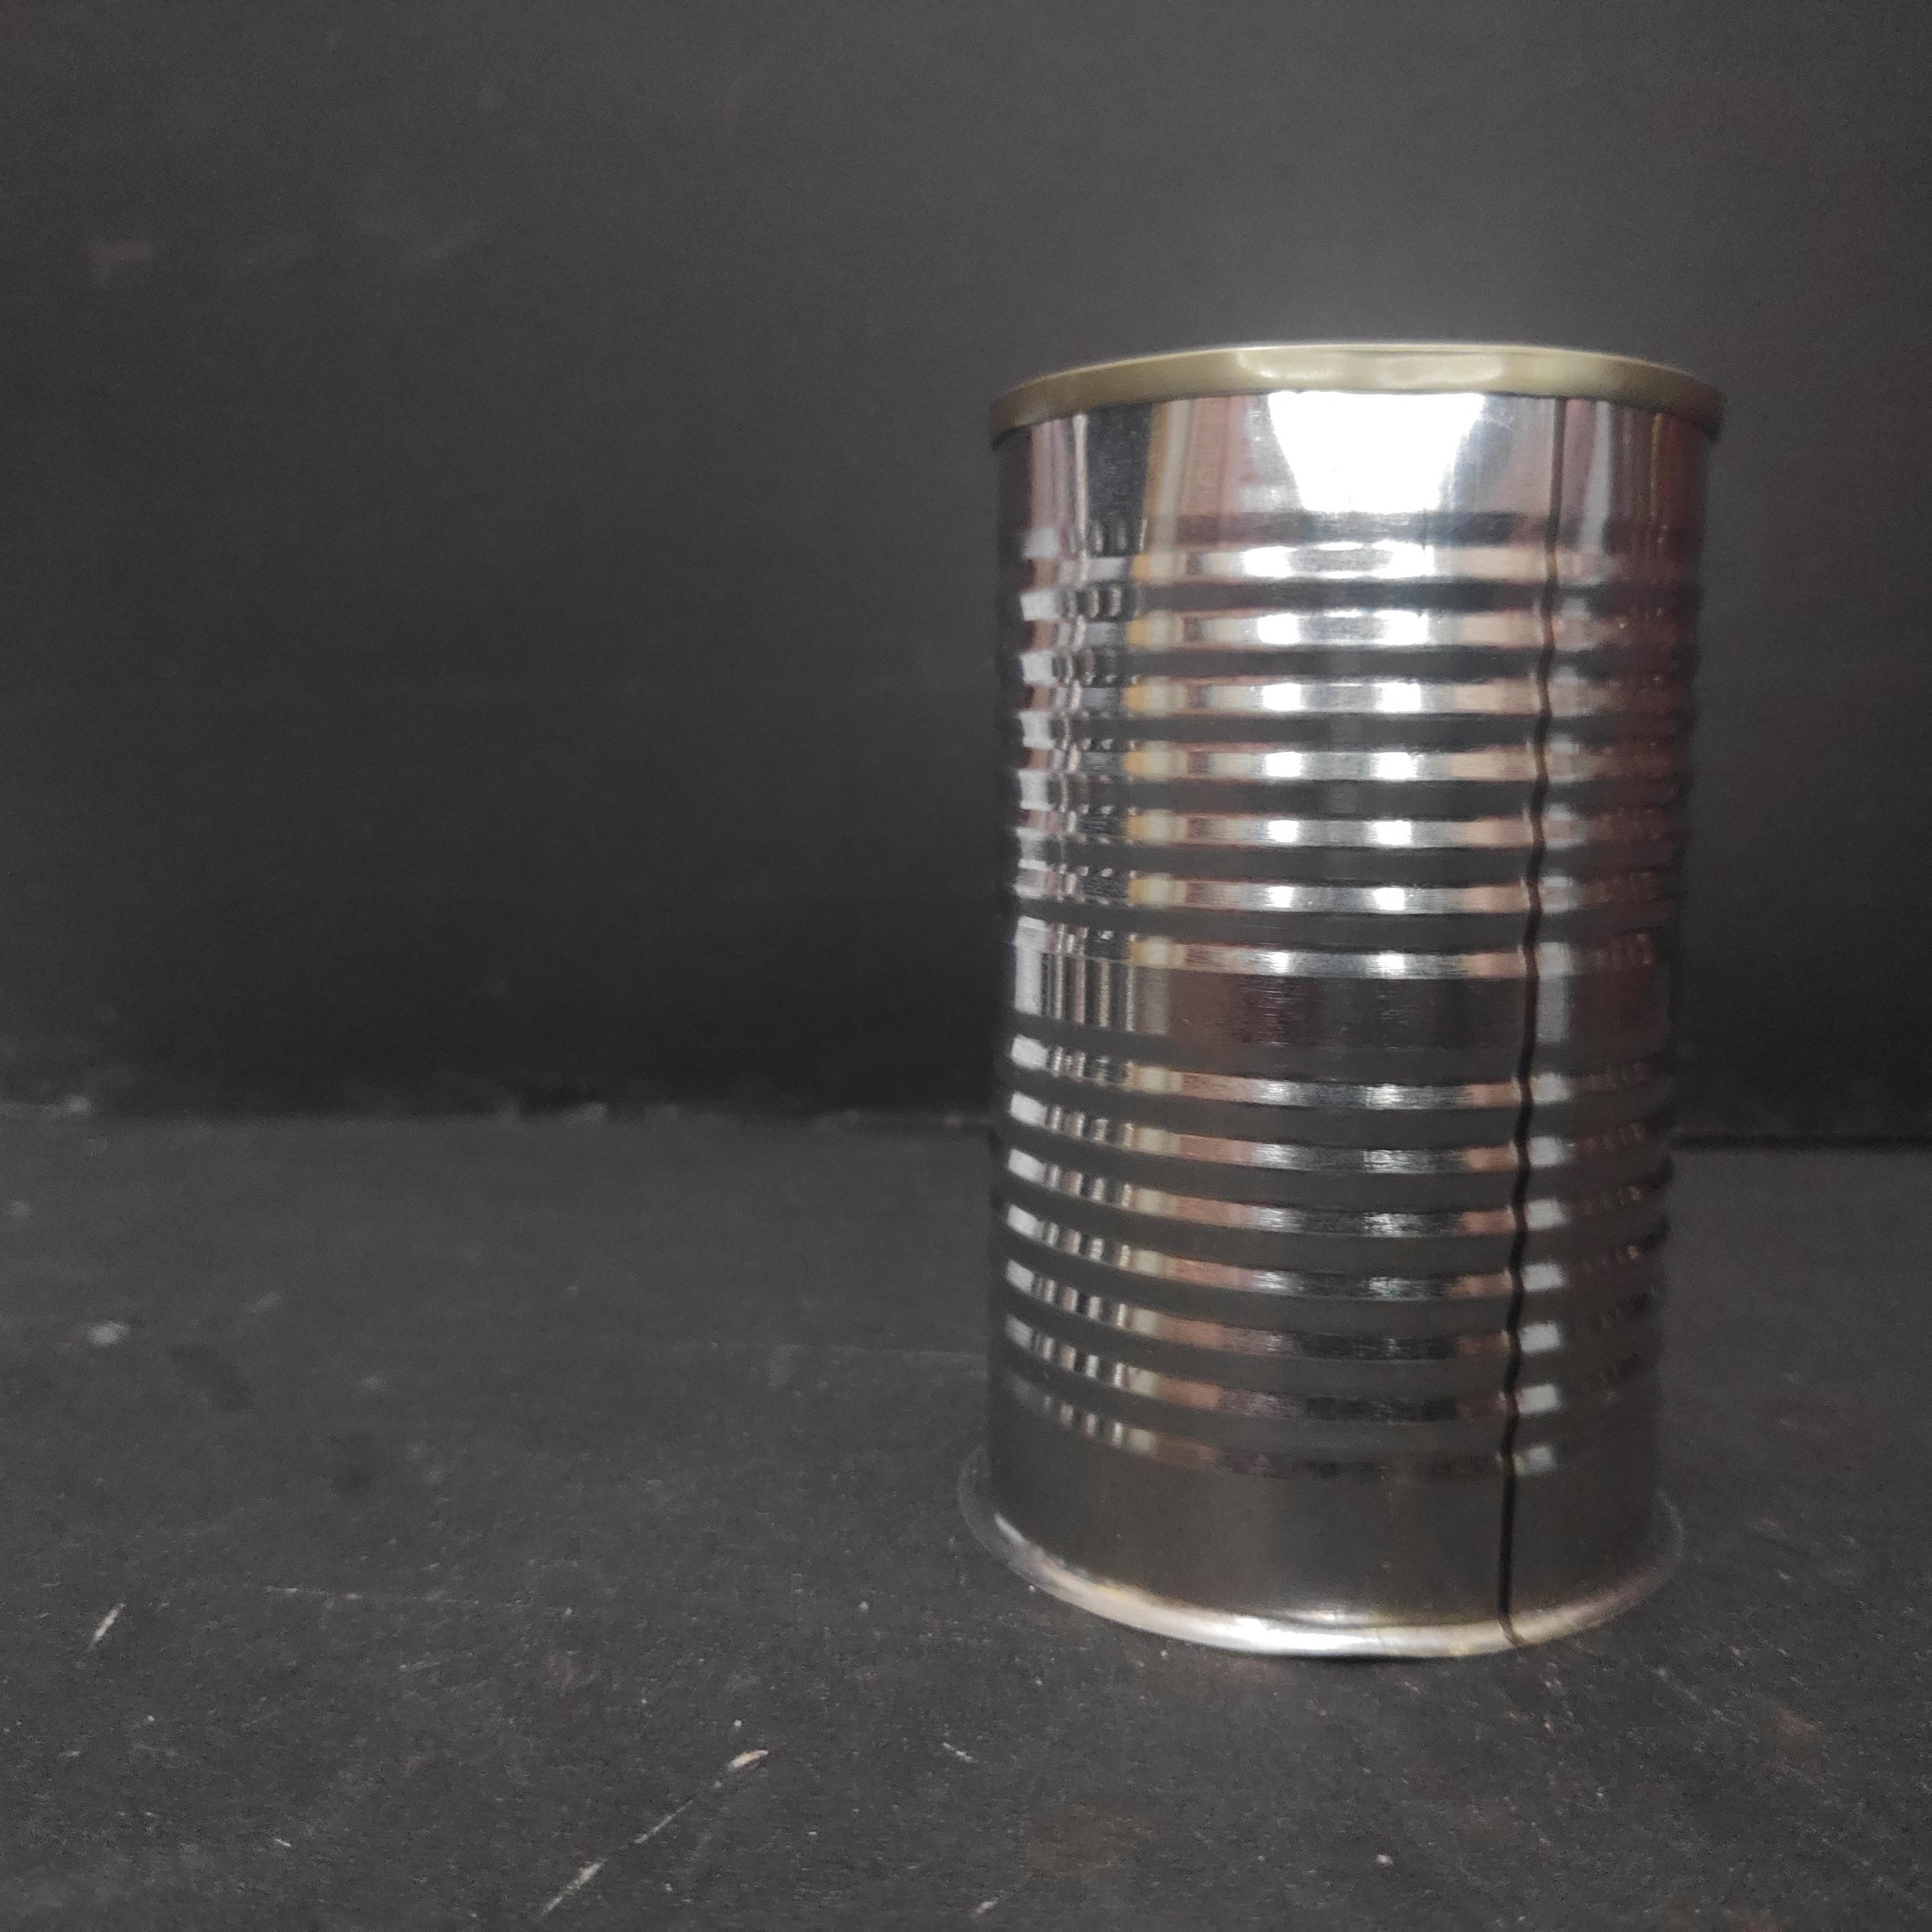Minor Defect: (976, 333, 1735, 1666)
